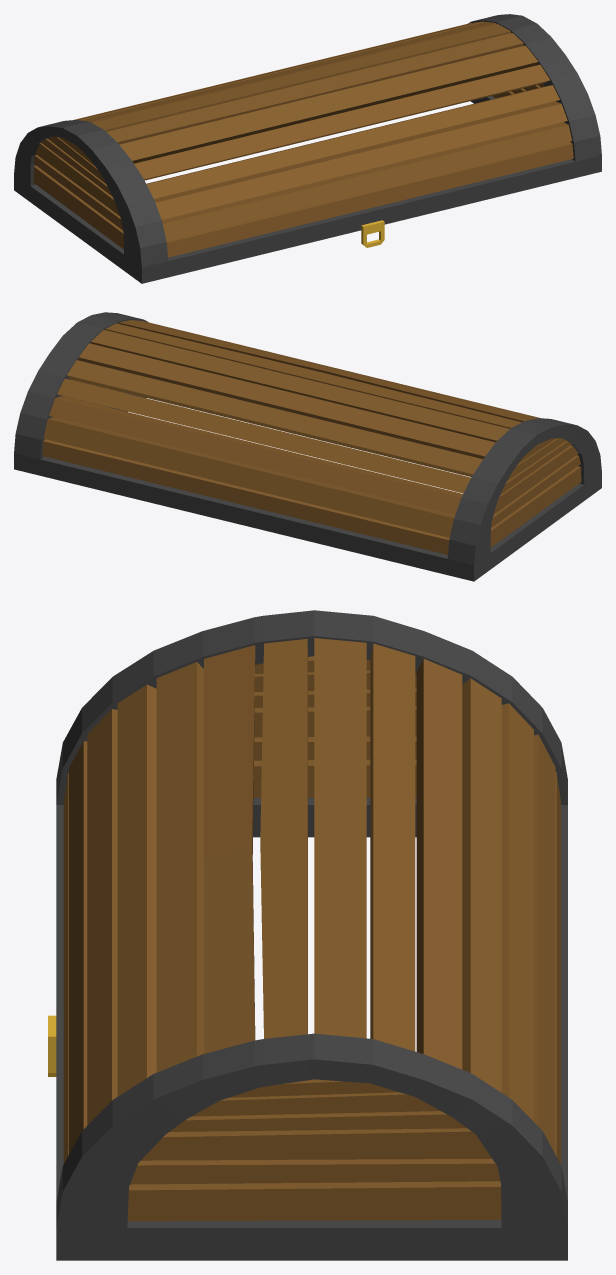
Rendered from Chest Lid.fbx.
3 renders of one model, top to bottom at view 1: azimuth 30°, elevation 25°; view 2: azimuth 150°, elevation 25°; view 3: azimuth 270°, elevation 25°, orthographic. The views are drawn at different scales.
Visible parts, largest first — view 1: Lid; view 2: Lid; view 3: Lid.
Part boxes in pixels (left/top/right/bottom): Lid: left=14, top=14, right=601, bottom=283; Lid: left=14, top=312, right=601, bottom=581; Lid: left=48, top=610, right=567, bottom=1260.
Bounding box in the file's own units: 169 × 41.3 × 82.61.
